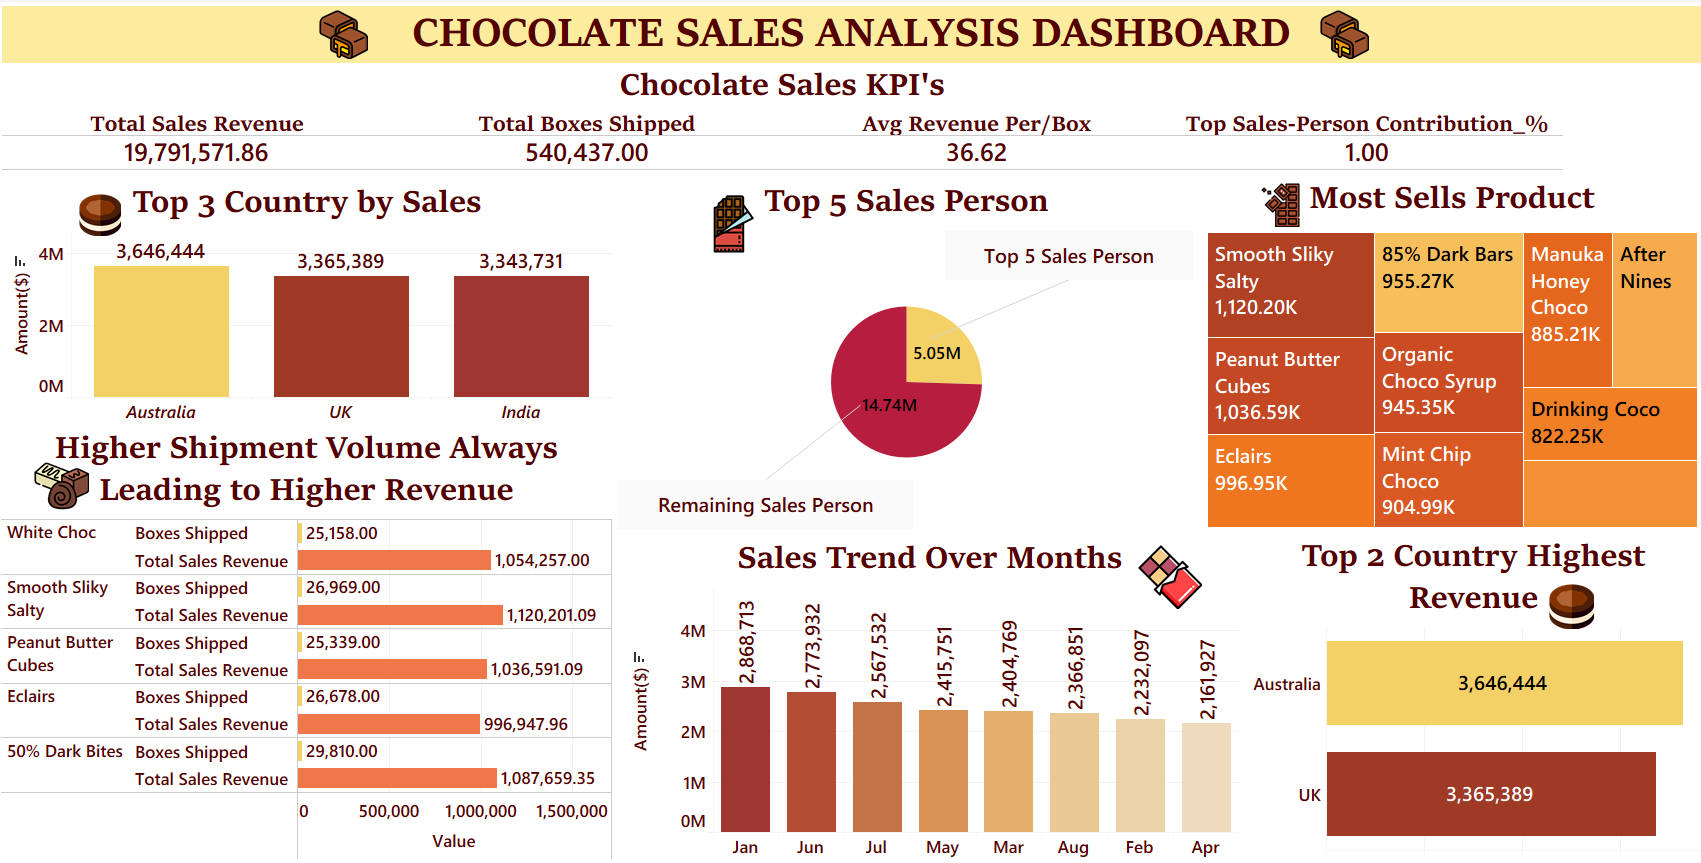

Layout of this report page (visuals, bound fields, positions):
{"tool":"tableau","page":{"name":"Chocolate Sales Analysis","canvas":[1000,1000],"units":"permille","ordinal":0},"visuals":[{"type":"text","box":[2.4,4.7,995.2,66.2]},{"type":"image","param":"F:/Data Analytics/Projects/Tableau/Chocolate Sales/Images/chocolate.png","box":[188.3,9.3,44.2,56.9]},{"type":"image","param":"F:/Data Analytics/Projects/Tableau/Chocolate Sales/Images/chocolate.png","box":[774.2,9.3,40.6,56.9]},{"type":"worksheet","title":"KPI","mark":"Automatic","box":[2.4,75.5,995.8,128.9]},{"type":"worksheet","title":"Most Sales Product","mark":"Automatic","box":[705.8,206.7,291.8,408.8]},{"type":"worksheet","title":"Top 5 Sales Person","mark":"Pie","box":[363.2,210.2,337.8,406.5]},{"type":"image","param":"F:/Data Analytics/Projects/Tableau/Chocolate Sales/Images/dark-chocolate.png","box":[737.9,210.2,26,58.1]},{"type":"worksheet","title":"Top 3 Country by Sales","mark":"Automatic","rows":["Amount($)"],"cols":["Country"],"box":[2.3,211.4,357.4,278.8]},{"type":"image","param":"F:/Data Analytics/Projects/Tableau/Chocolate Sales/Images/chocolate-bar.png","box":[409.8,221.8,35.7,90.6]},{"type":"image","param":"F:/Data Analytics/Projects/Tableau/Chocolate Sales/Images/cookie.png","box":[47.2,223,26,48.8]},{"type":"worksheet","title":"Higher Shipment Volume Always Leading to Higher Revenue","mark":"Automatic","rows":["Product"],"box":[1.8,495.9,357.9,500.6]},{"type":"image","param":"F:/Data Analytics/Projects/Tableau/Chocolate Sales/Images/chocolate (2).png","box":[21.1,529.6,37.5,63.9]},{"type":"worksheet","title":"Top 2 Country Highest Revenue","mark":"Automatic","rows":["Country"],"cols":["Calculation_0608073866129408"],"box":[731.2,621.4,266.3,376.3]},{"type":"worksheet","title":"Sales Trend Over Months","mark":"Automatic","rows":["Amount($)"],"cols":["Sales_Month"],"box":[365,624.9,362,370.5]},{"type":"image","param":"F:/Data Analytics/Projects/Tableau/Chocolate Sales/Images/chocolate (1).png","box":[667.7,630.7,37.5,94.1]},{"type":"image","param":"F:/Data Analytics/Projects/Tableau/Chocolate Sales/Images/cookie.png","box":[908.6,676,29.1,52.3]}]}

Visuals, with their boxes on the dashboard's canvas, which has no fixed pixel size, in thousandths of its width and height (x1, y1, x2, y2). These are canvas units, not pixel positions in the 1701x863 screenshot, which may show the page scaled, cropped or inside an application window:
text: pyautogui.locateOnScreen(2, 5, 998, 71)
image: pyautogui.locateOnScreen(188, 9, 232, 66)
image: pyautogui.locateOnScreen(774, 9, 815, 66)
"KPI" worksheet: pyautogui.locateOnScreen(2, 76, 998, 204)
"Most Sales Product" worksheet: pyautogui.locateOnScreen(706, 207, 998, 616)
"Top 5 Sales Person" worksheet (Pie marks): pyautogui.locateOnScreen(363, 210, 701, 617)
image: pyautogui.locateOnScreen(738, 210, 764, 268)
"Top 3 Country by Sales" worksheet: pyautogui.locateOnScreen(2, 211, 360, 490)
image: pyautogui.locateOnScreen(410, 222, 446, 312)
image: pyautogui.locateOnScreen(47, 223, 73, 272)
"Higher Shipment Volume Always Leading to Higher Revenue" worksheet: pyautogui.locateOnScreen(2, 496, 360, 996)
image: pyautogui.locateOnScreen(21, 530, 59, 594)
"Top 2 Country Highest Revenue" worksheet: pyautogui.locateOnScreen(731, 621, 998, 998)
"Sales Trend Over Months" worksheet: pyautogui.locateOnScreen(365, 625, 727, 995)
image: pyautogui.locateOnScreen(668, 631, 705, 725)
image: pyautogui.locateOnScreen(909, 676, 938, 728)
